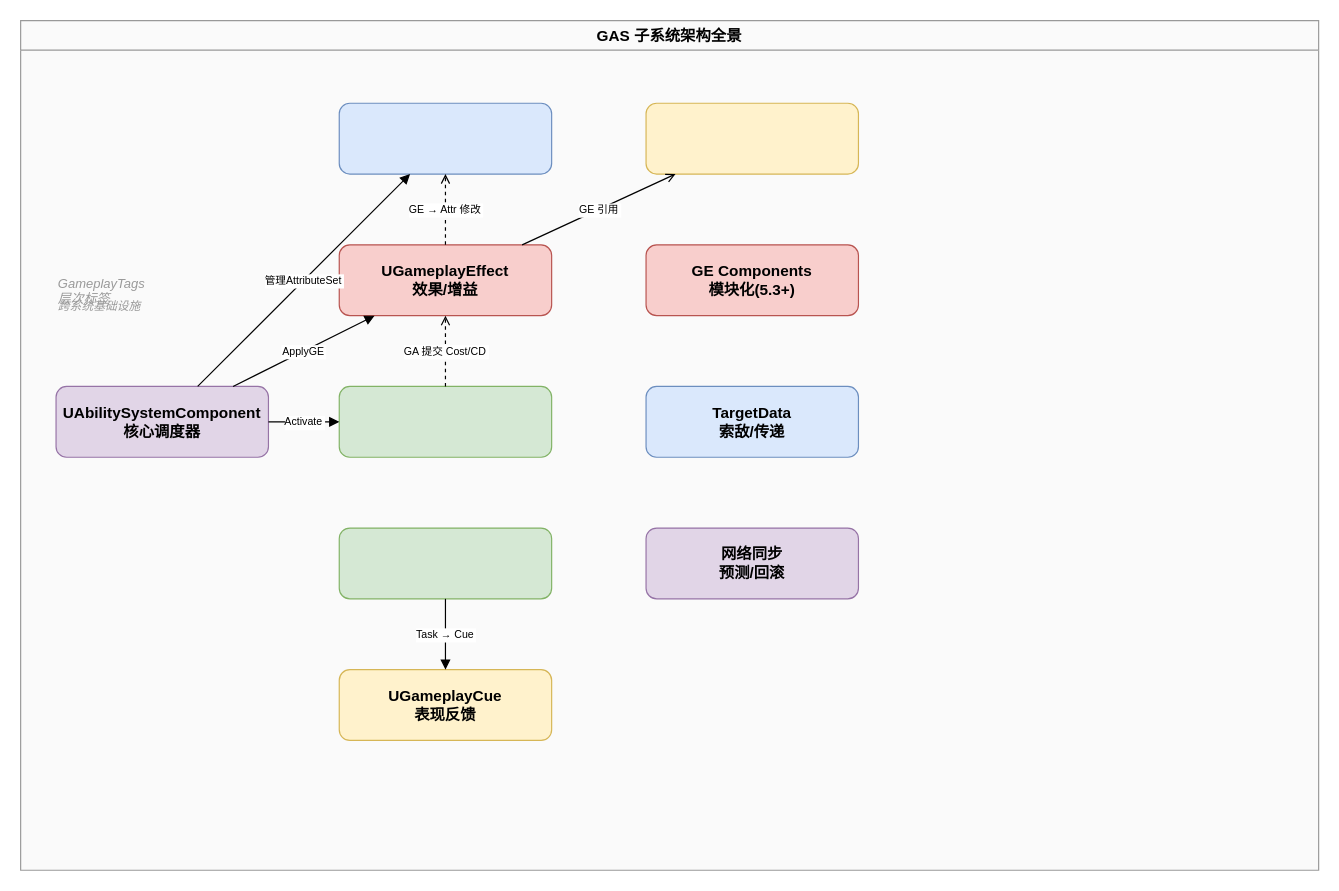
This 1339x891 diagram has some shape labels left out. The centre of each missing label's shape, as x and y in pixels:
"ExecutionCalculation 伤害公式" belongs at [751,138].
"UAbilityTask 异步任务" belongs at [445,563].
"UAttributeSet 属性数值" belongs at [445,138].
"UGameplayAbility 技能逻辑" belongs at [445,421].
